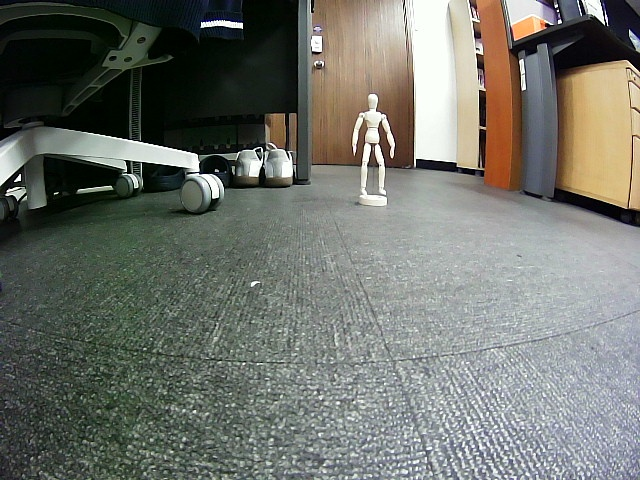person: (351, 94, 395, 197)
